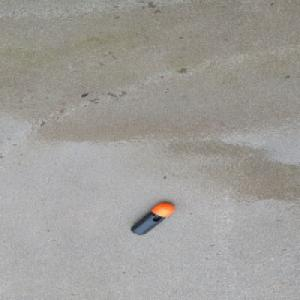PlasticPart: (129, 202, 175, 235)
